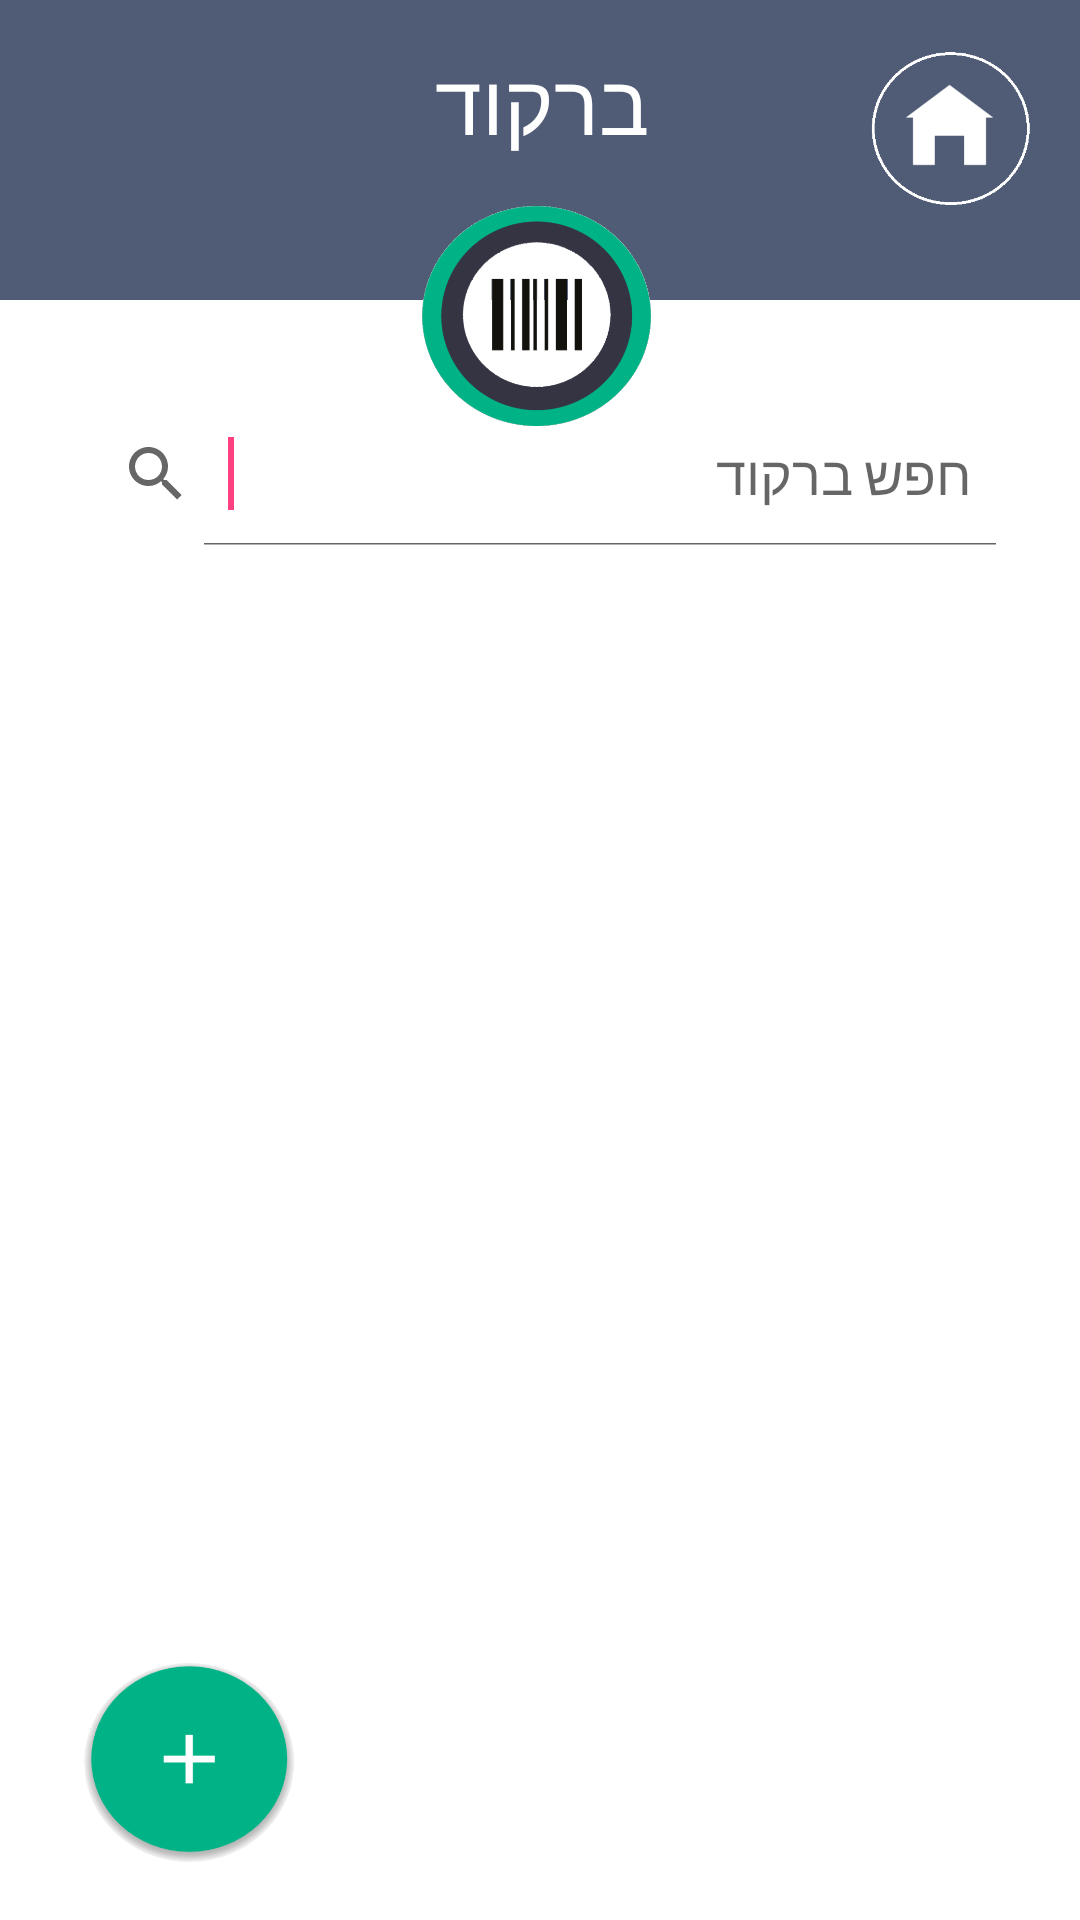

Where icons sit on this 1080 × 1920 app screen, as (x1, y1, x2, y2):
add: (86, 1665, 292, 1860)
home circle: (872, 52, 1030, 205)
